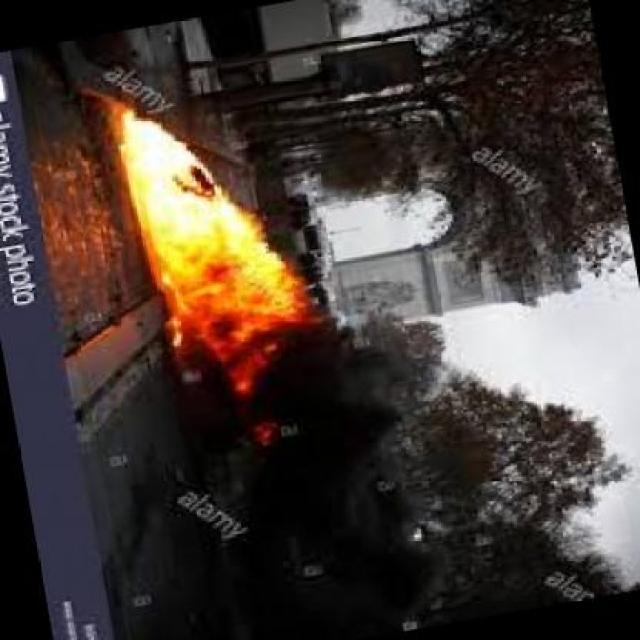Fire: (106, 112, 304, 373)
Smoke: (211, 382, 406, 640)
